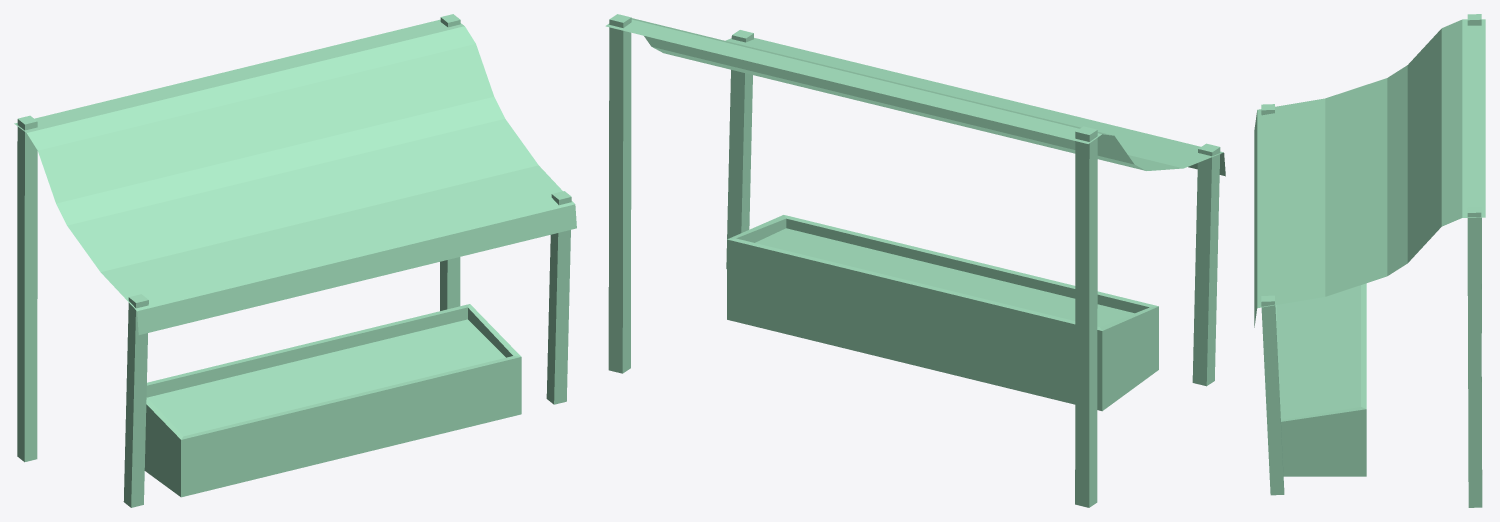
Rendered from marketstand.fbx.
3 renders of one model, left to right at view 1: azimuth 30°, elevation 25°; view 2: azimuth 150°, elevation 25°; view 3: azimuth 270°, elevation 25°, orthographic. The views are drawn at different scales.
Parts seen in each view (by area): view 1: sheet, box, poles; view 2: box, poles, sheet; view 3: sheet, box, poles.
Part boxes in pixels (box(x1,y1,x2,y2)): sheet: box(14, 19, 576, 334); box: box(144, 304, 521, 497); poles: box(17, 14, 571, 507); box: box(727, 215, 1158, 411); poles: box(608, 14, 1220, 507); sheet: box(605, 18, 1225, 176); sheet: box(1254, 19, 1485, 327); box: box(1275, 283, 1366, 476); poles: box(1261, 14, 1482, 507).
Bounding box in the file's own units: 983 × 725 × 484.
